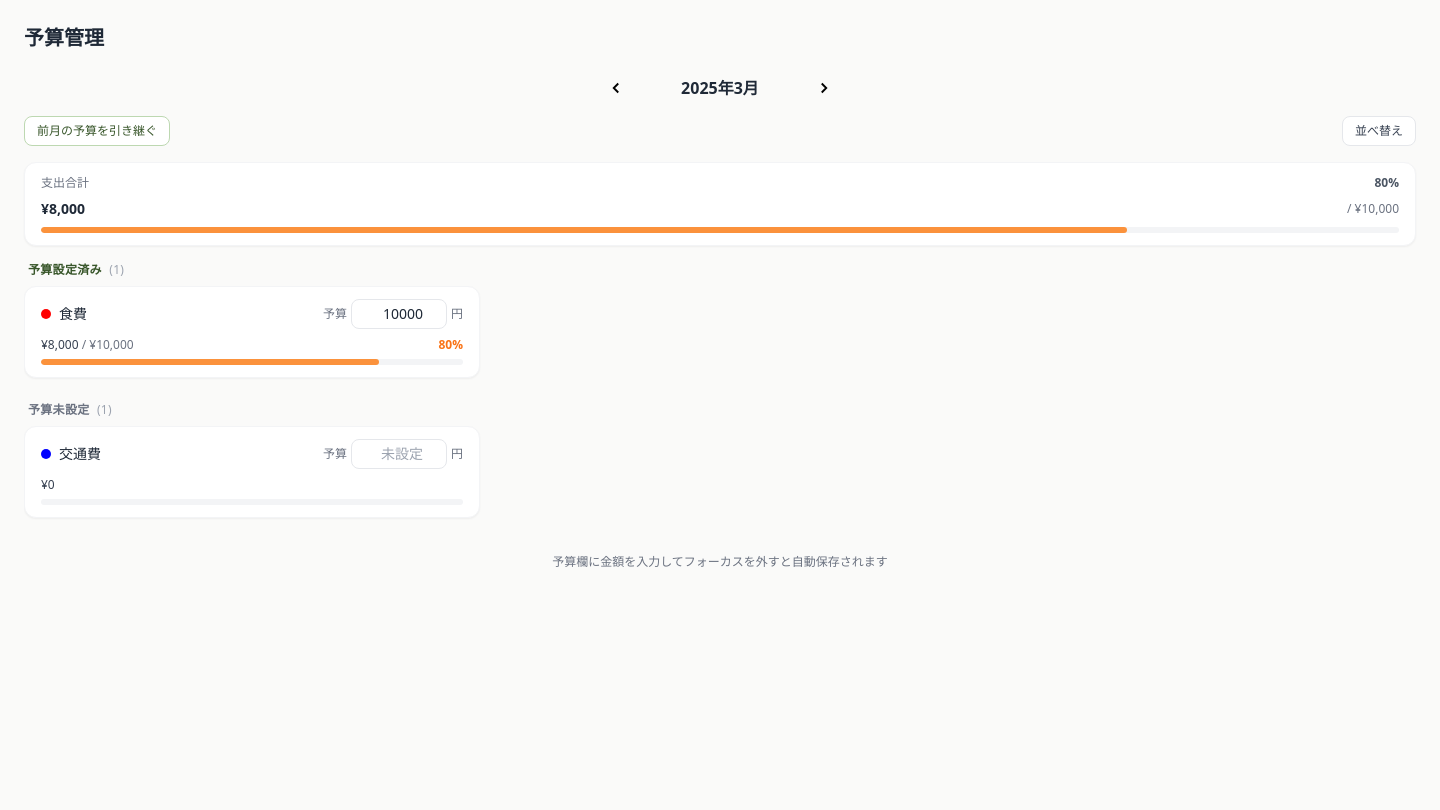
BudgetPage - 前月引き継ぎ › 補完件数が 0 件で「引き継ぐ予算がありません」トースト表示
The image size is (1440, 810).
What coordinates should you click on to do the following:
click the button "前月の予算を引き継ぐ"
I would click on:
 (97, 131)
Its box is [24, 116, 170, 146].
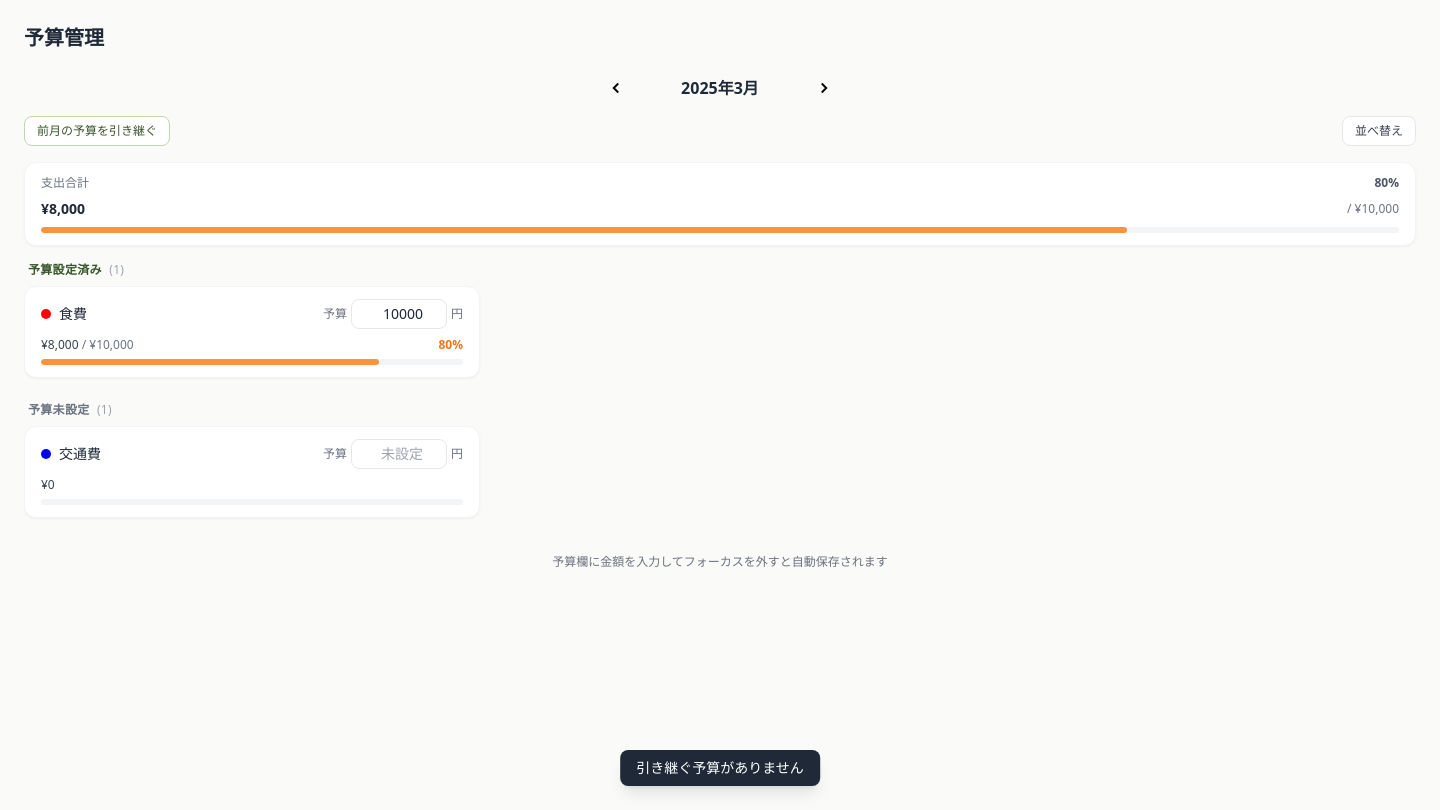
Expected: the text "引き継ぐ予算がありません" is shown, [620, 750, 820, 786]
